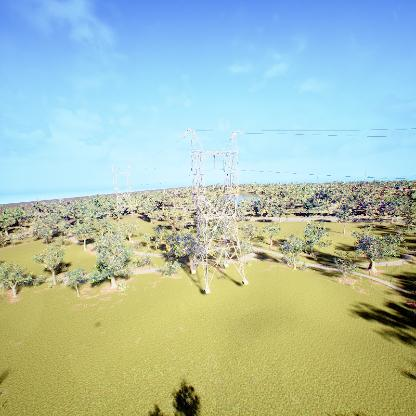tower: (178, 128, 254, 297), (108, 162, 138, 217)
